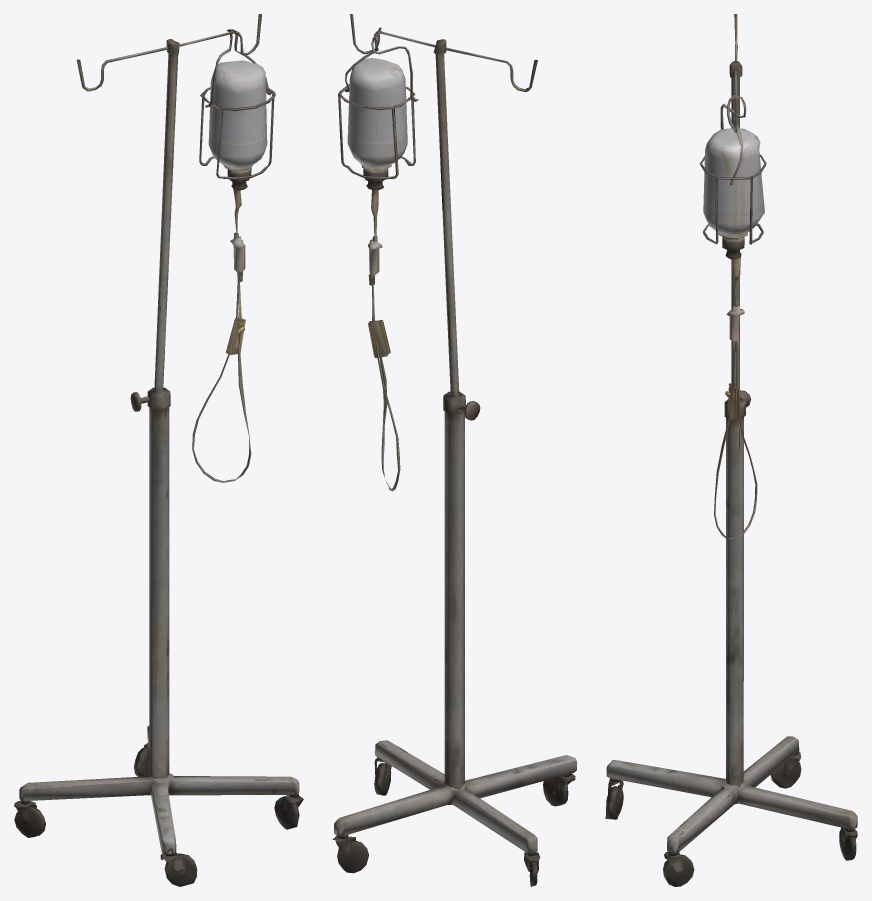
Rendered from epi_iv.glb.
3 views of the same model, side by side, from view 1: azimuth 30°, elevation 25°; view 2: azimuth 150°, elevation 25°; view 3: azimuth 270°, elevation 25° (orthographic). The views are drawn at different scales.
Visible parts, largest first — view 1: geometry_0; view 2: geometry_0; view 3: geometry_0.
Part boxes in pixels (x1,y1,x2,y2): geometry_0: [14, 14, 303, 886]; geometry_0: [332, 14, 576, 886]; geometry_0: [605, 14, 857, 886].
Bounding box in the file's own units: 0.5664 × 1.9 × 0.5547.
1 material, 1 textured.
